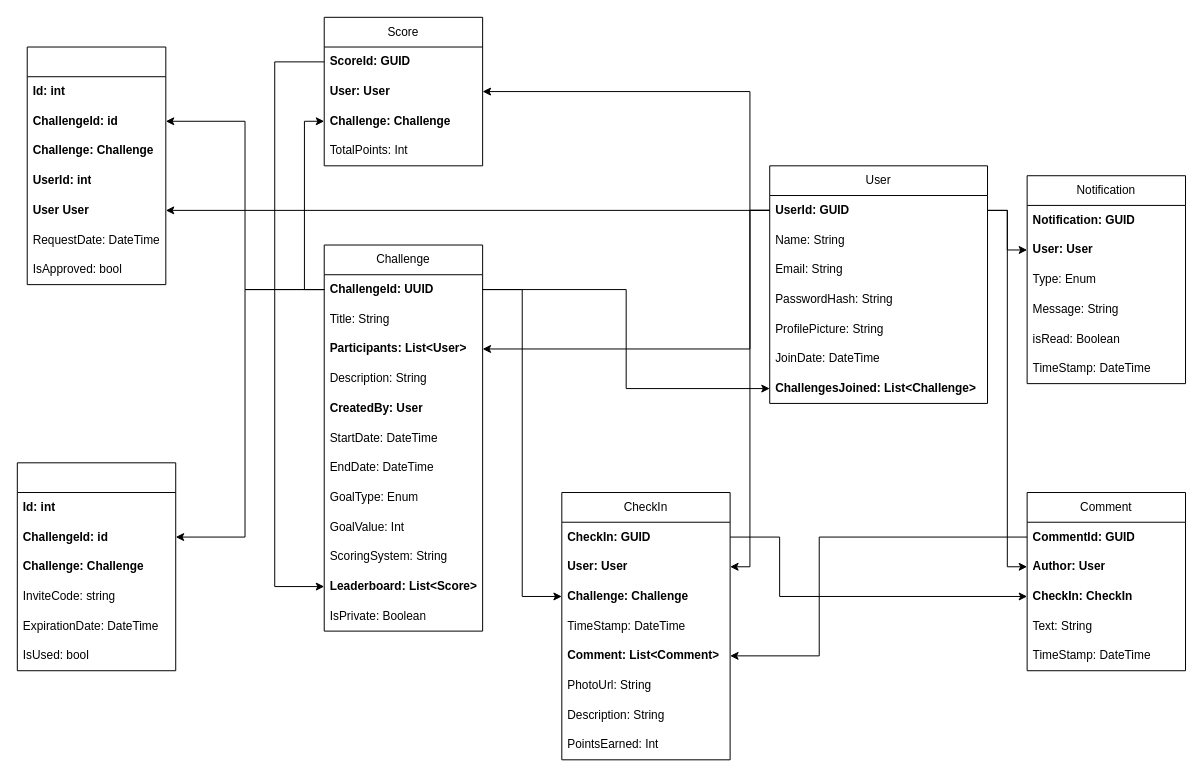
This 1203x777 diagram has some shape labels left out. The box of each missing label's shape, as (x1, y1, x2, y2) in pixels:
GroupInvite: (16, 462, 176, 671)
JoinRequest: (26, 46, 166, 285)
